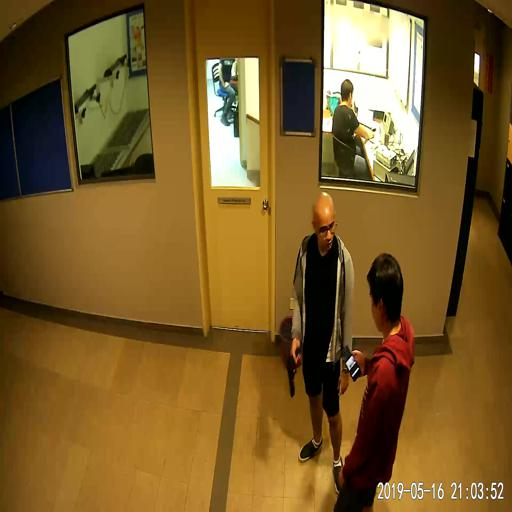pistol: (285, 347, 300, 396)
